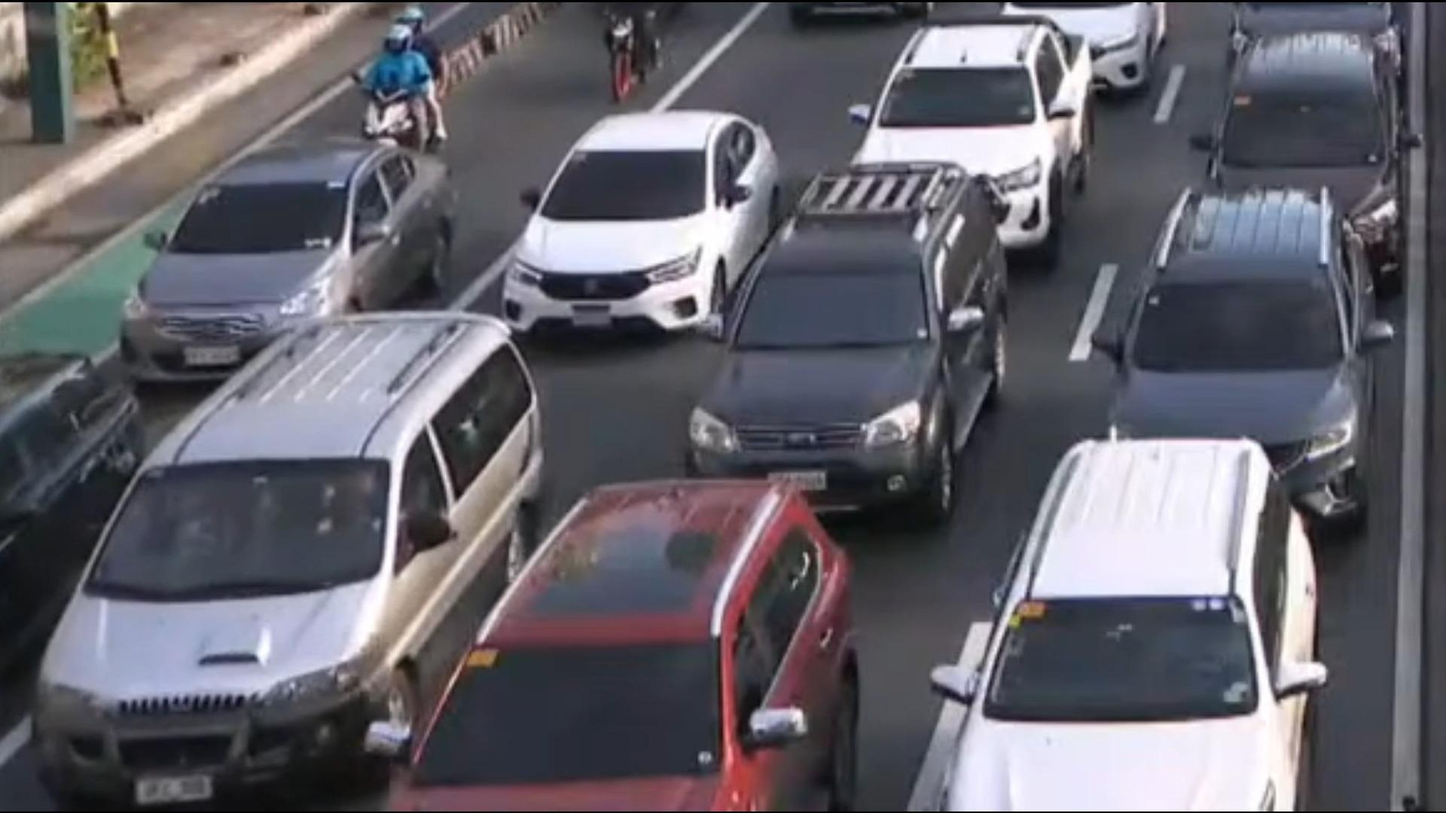Motorcycle: (341, 8, 456, 164), (580, 0, 667, 113)
Pickup: (842, 26, 1098, 250)
SUV: (401, 484, 860, 813), (930, 437, 1331, 813), (683, 164, 1017, 525), (1103, 186, 1384, 538), (0, 354, 154, 685)
Sedan: (100, 139, 467, 382), (491, 109, 781, 344), (1197, 34, 1408, 301)
Van: (24, 312, 540, 813)
